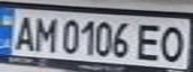0: (57, 16, 81, 55), (93, 18, 115, 57)
1: (78, 17, 96, 56)
6: (112, 19, 136, 60)
A: (9, 12, 39, 52)
E: (133, 20, 166, 62)
M: (30, 14, 60, 53)
O: (154, 22, 190, 63)
